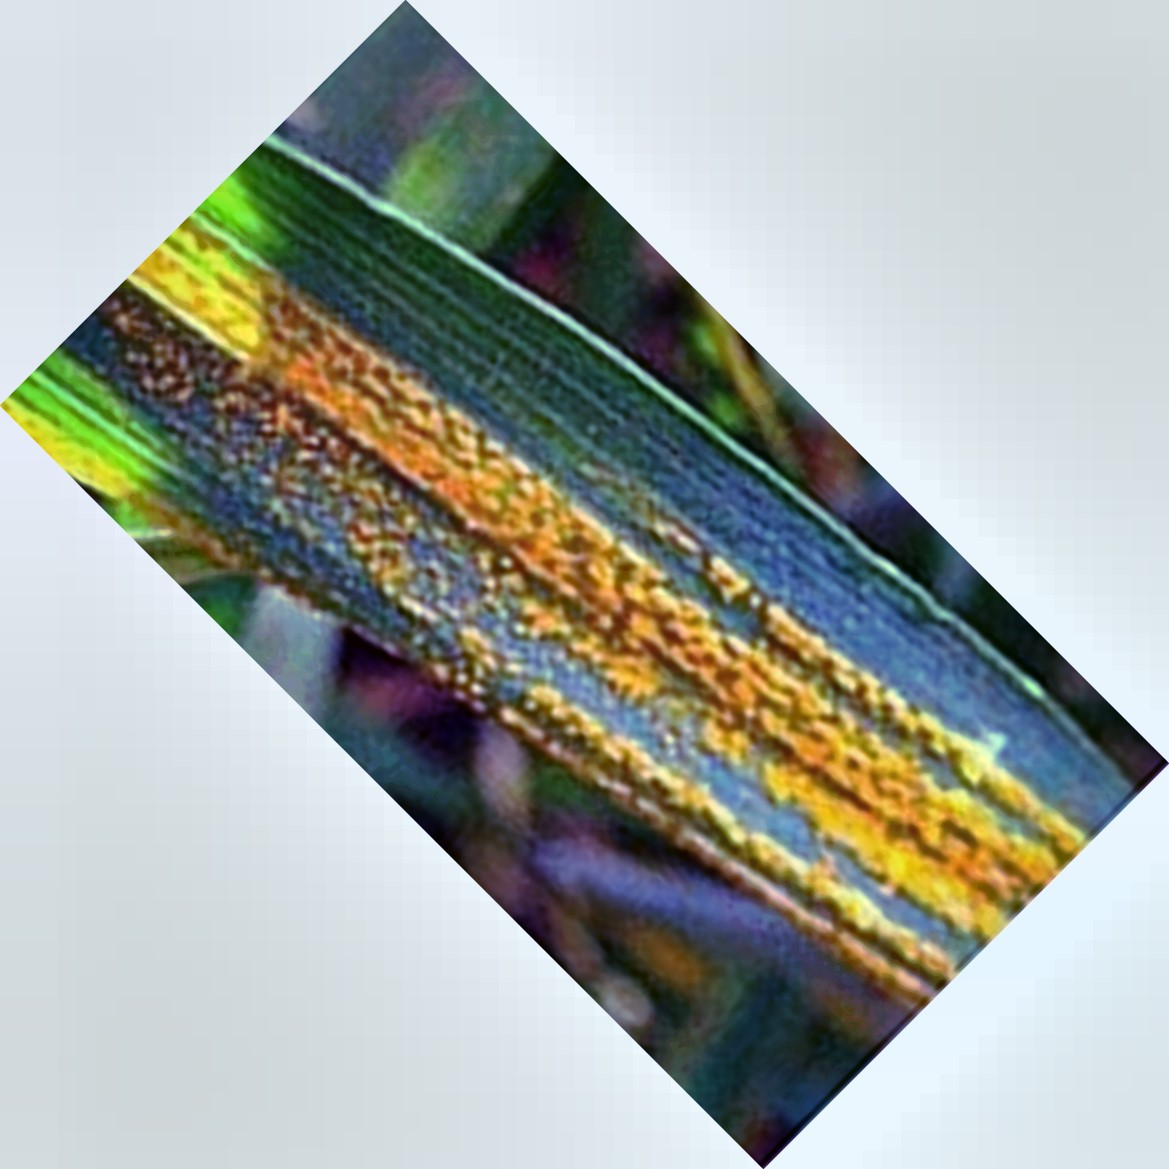Leaf Rust: (236, 339, 1005, 948)
